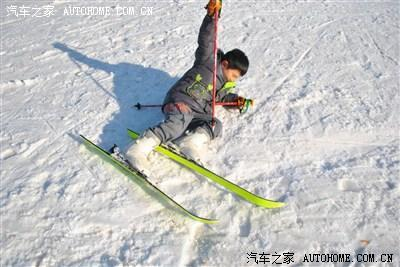Fall-Detected: (117, 0, 264, 184)
